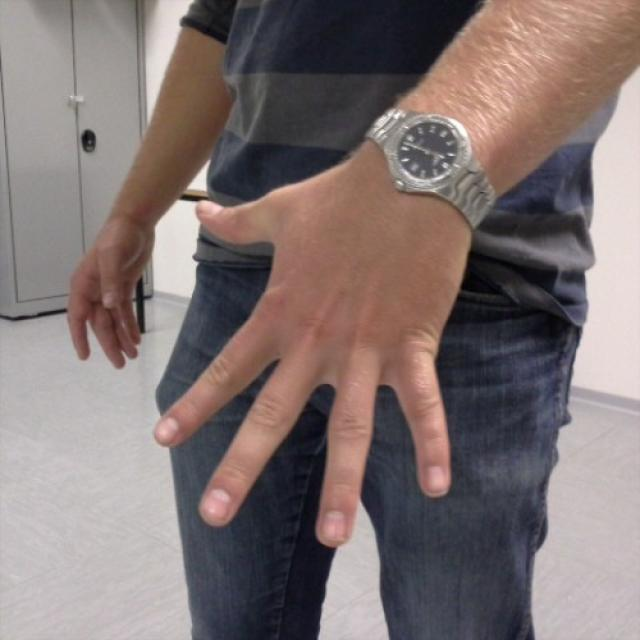paper: (156, 189, 458, 542)
